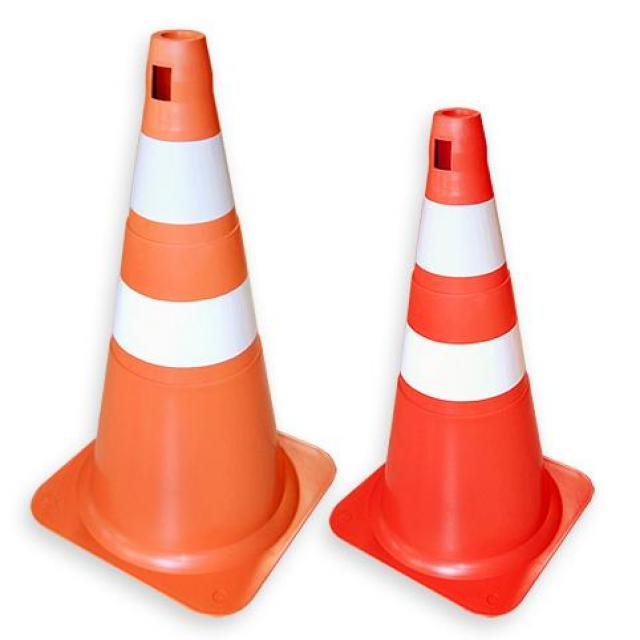cone: (62, 21, 310, 608), (348, 103, 568, 615)
